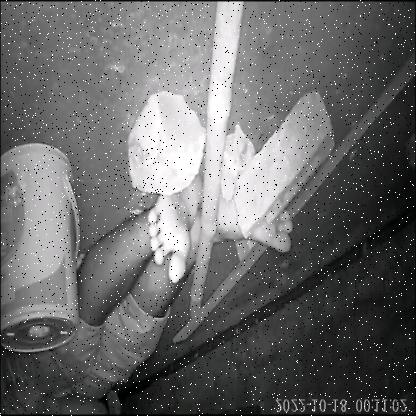leg: (86, 188, 192, 286), (194, 194, 302, 260)
